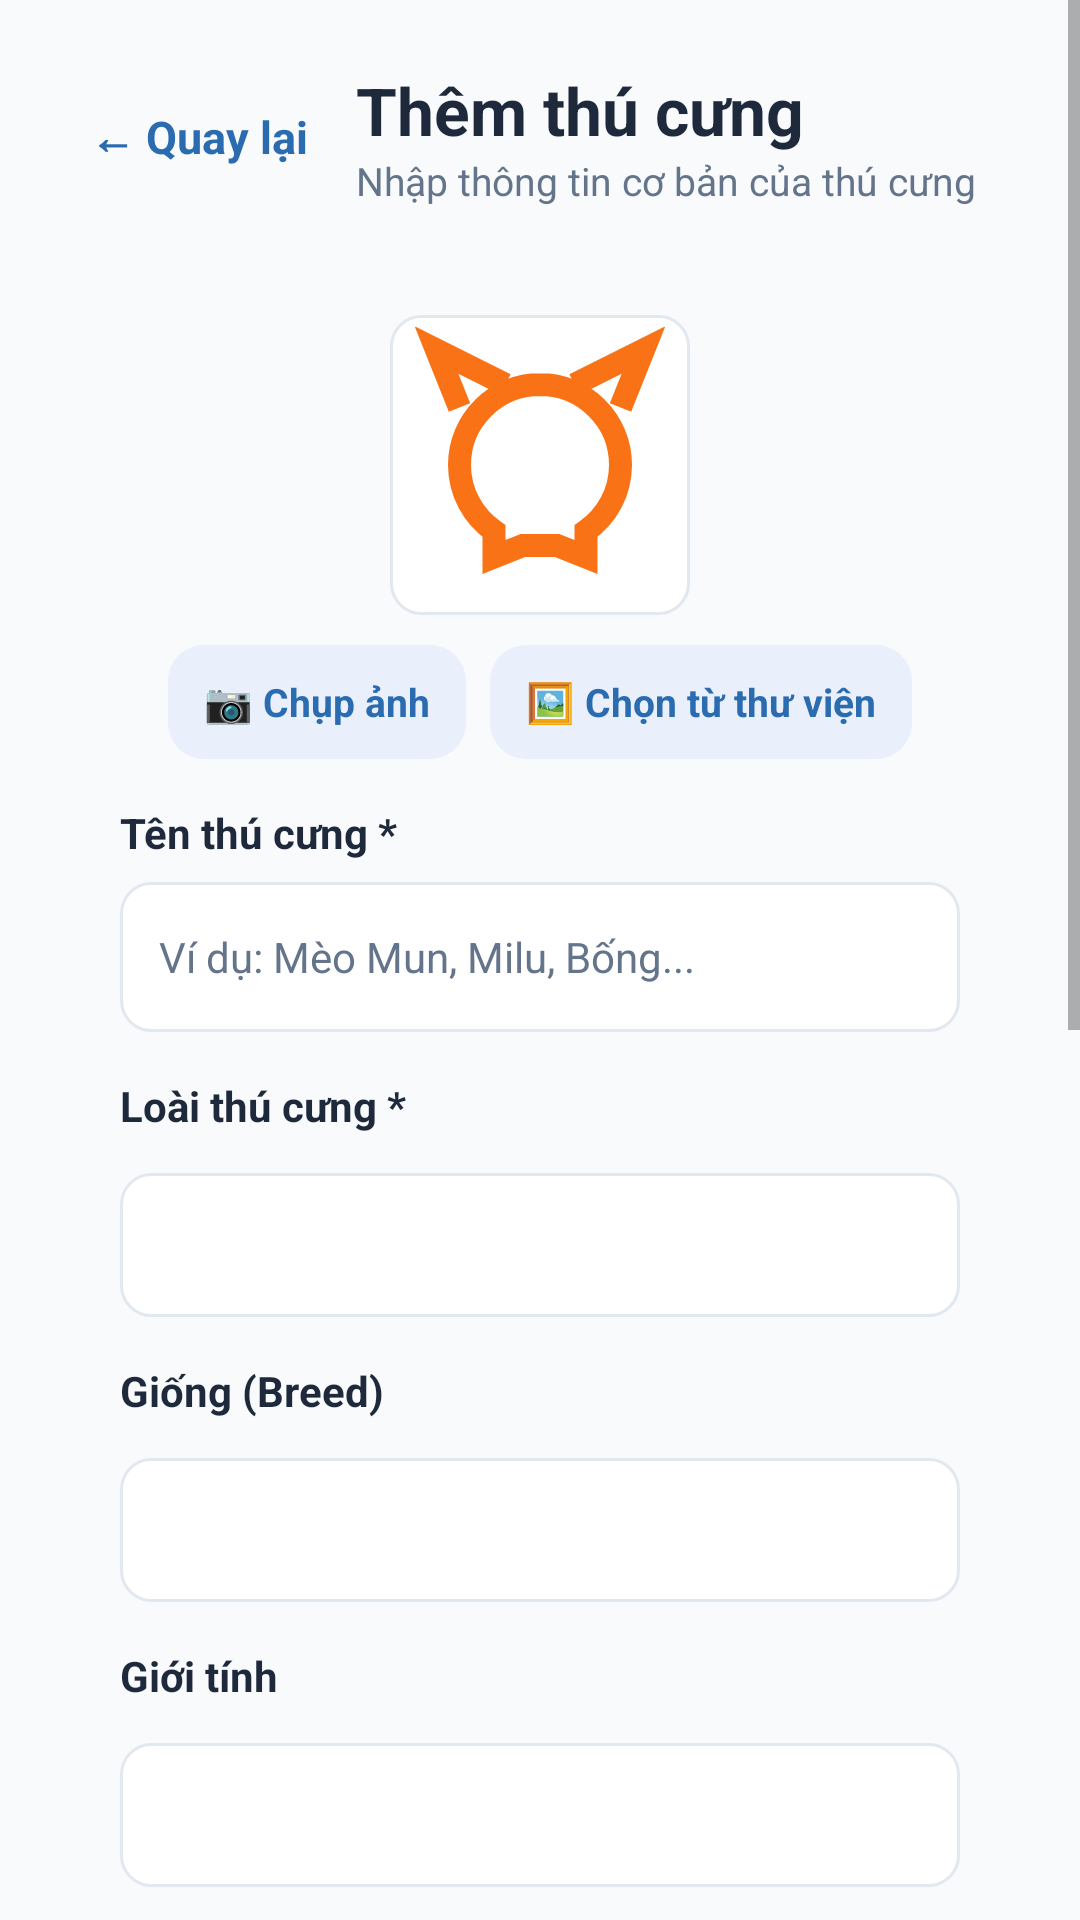

Point at icon controls on the screen. Image size 1080*1920, points as point (x, y).
Avatar: point (540, 450)
